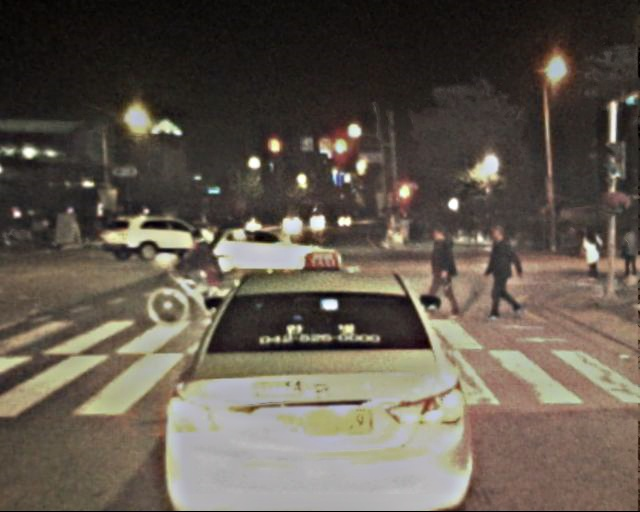person: (182, 229, 221, 325), (485, 229, 524, 325), (428, 228, 466, 320), (578, 230, 603, 291), (616, 222, 640, 282)
